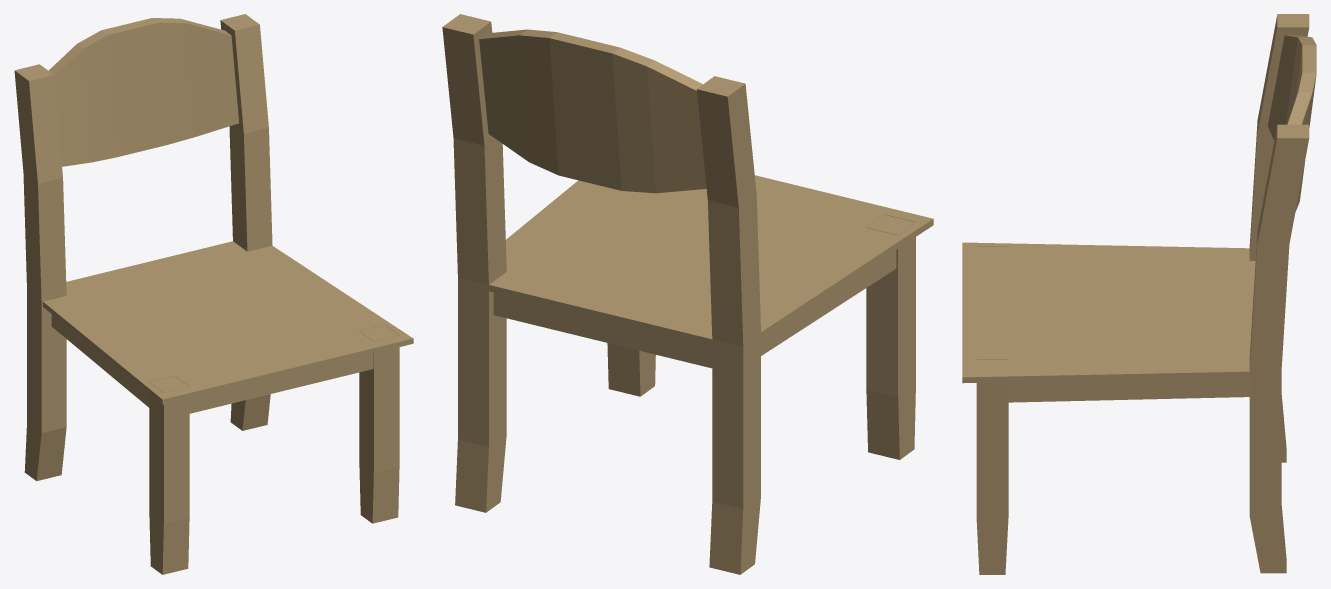
Rendered from DiningRoomChair.fbx.
The picture shows the model from 3 angles, left to right: view 1: azimuth 30°, elevation 25°; view 2: azimuth 150°, elevation 25°; view 3: azimuth 270°, elevation 25°; orthographic projection. The views are drawn at different scales.
Visible parts, largest first — view 1: Chair; view 2: Chair; view 3: Chair.
Boxes of the visible parts, x1,y1,x2,y2 form: Chair: [14, 14, 413, 574]; Chair: [442, 14, 933, 574]; Chair: [962, 14, 1316, 574].
Size of the model in its own units: 75 by 117 by 83.31.
